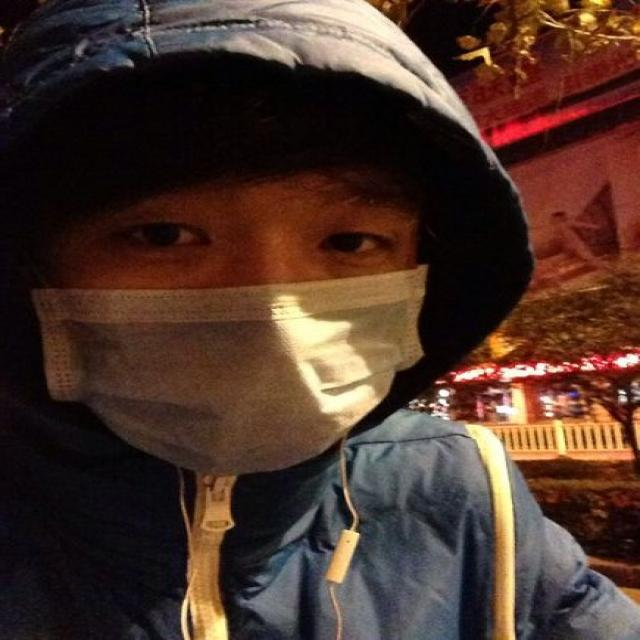mask: (42, 171, 423, 476)
